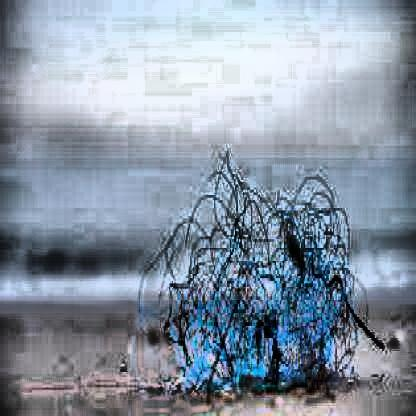Fishing wastes: (134, 178, 355, 395)
